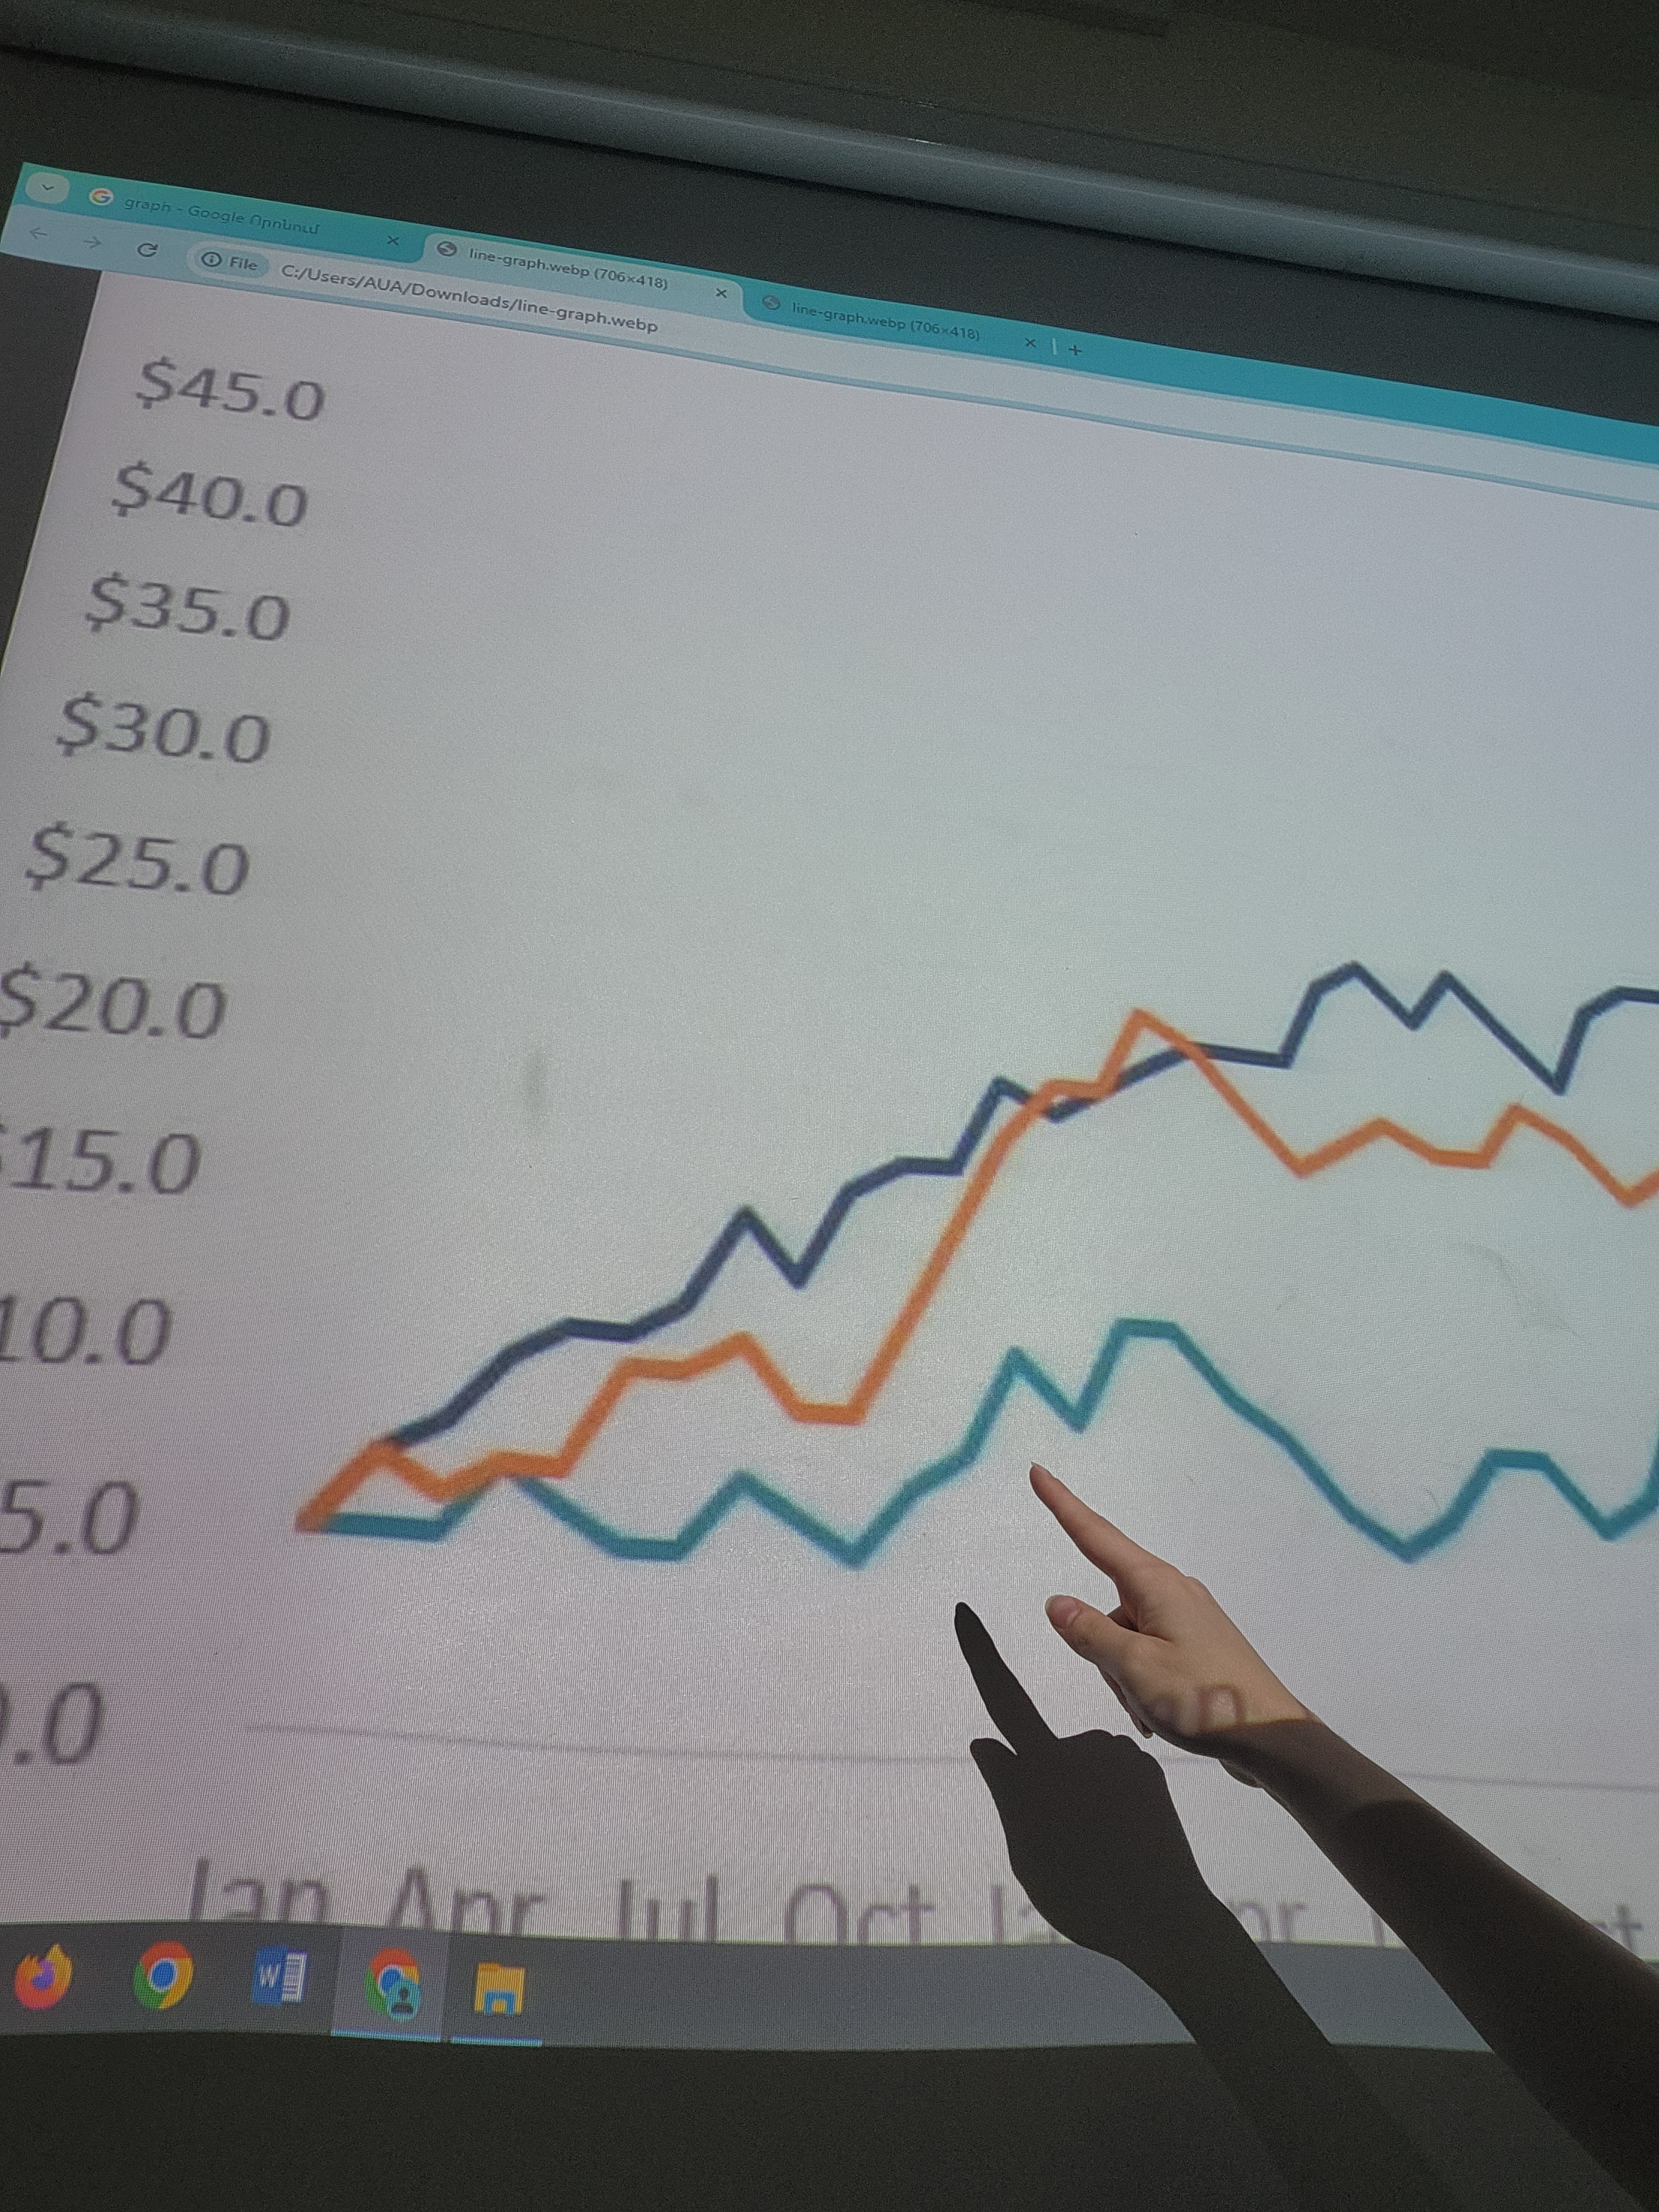pointing_gesture: (1011, 1458, 1312, 1777)
